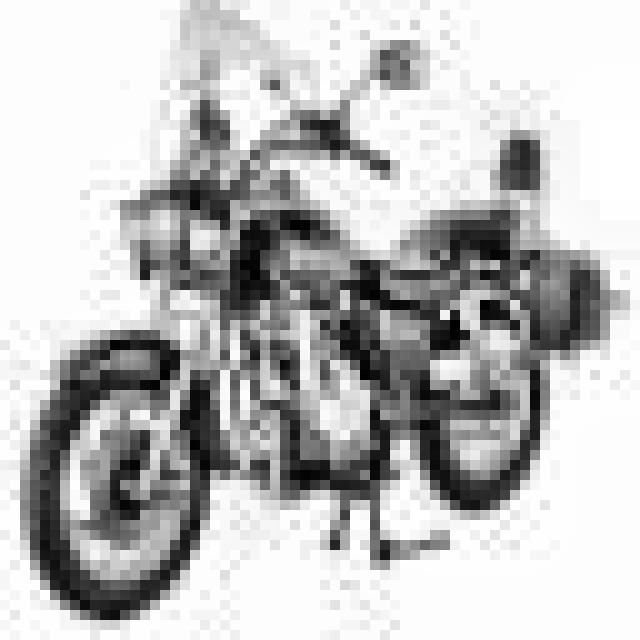mopeds: (22, 113, 613, 628)
